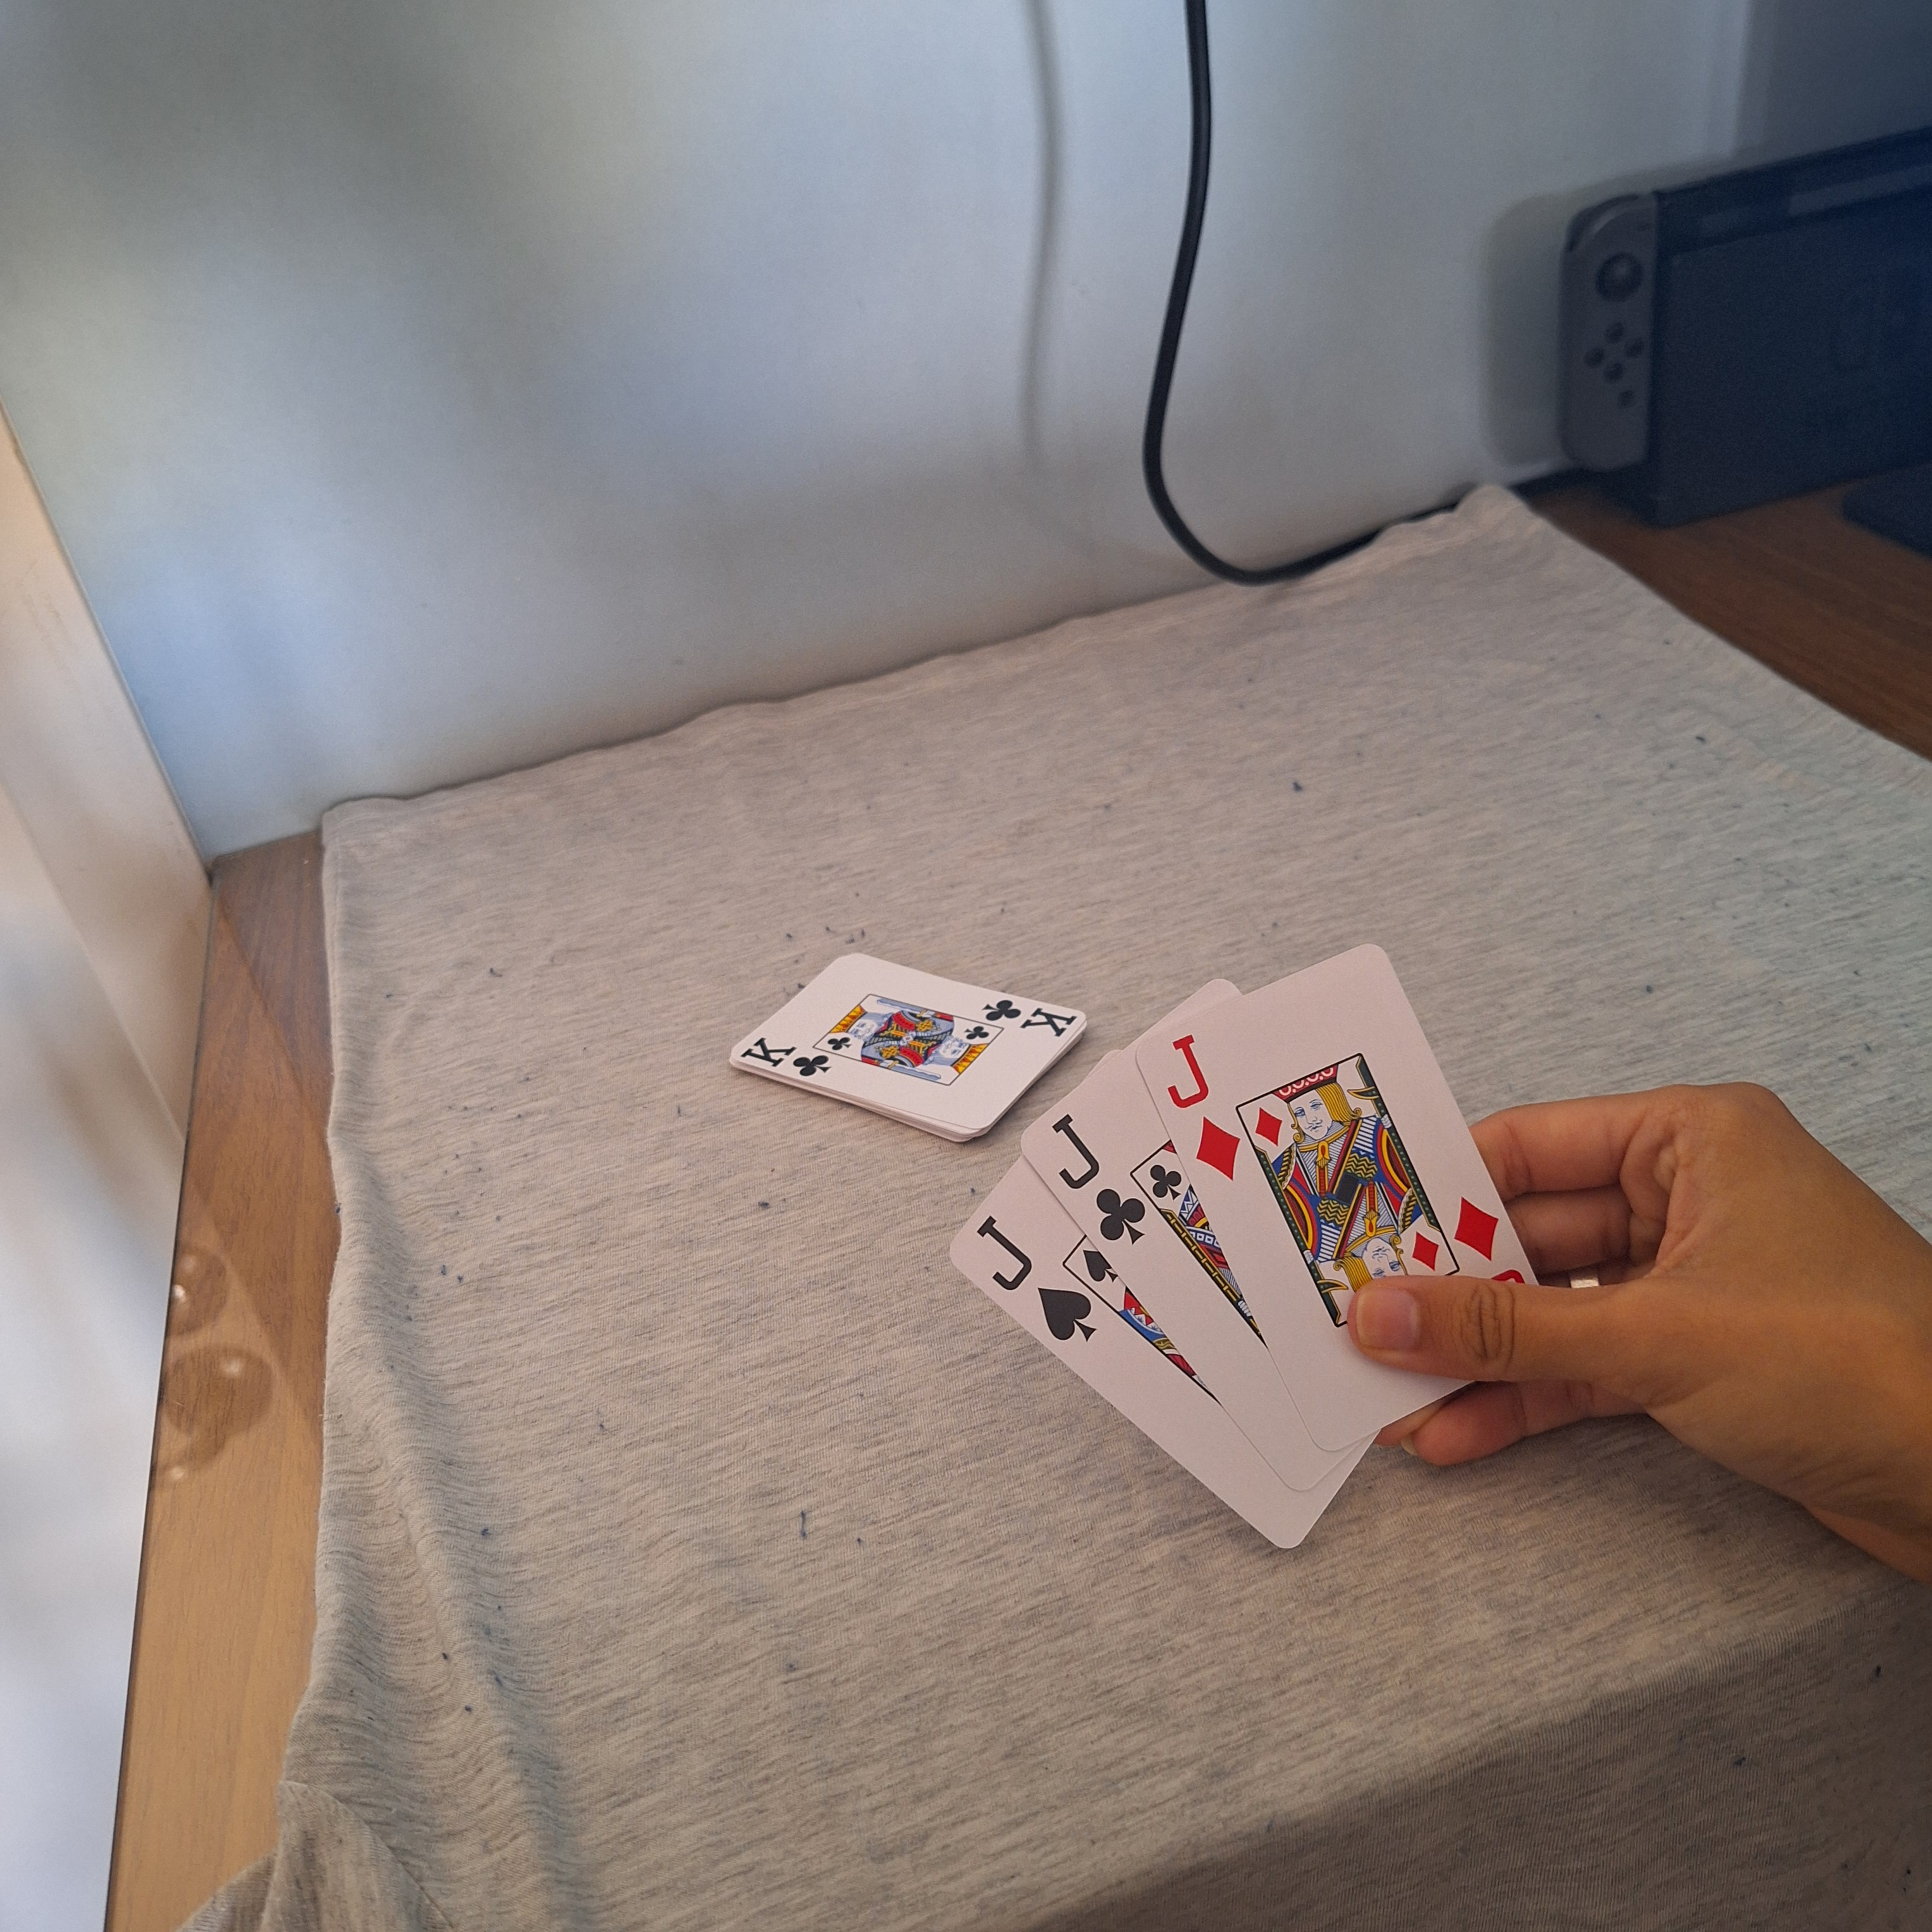JE: (975, 1214, 1097, 1348)
JO: (1164, 1031, 1244, 1187)
JP: (1049, 1111, 1148, 1247)
KP: (738, 1033, 832, 1079), (982, 994, 1079, 1039)
